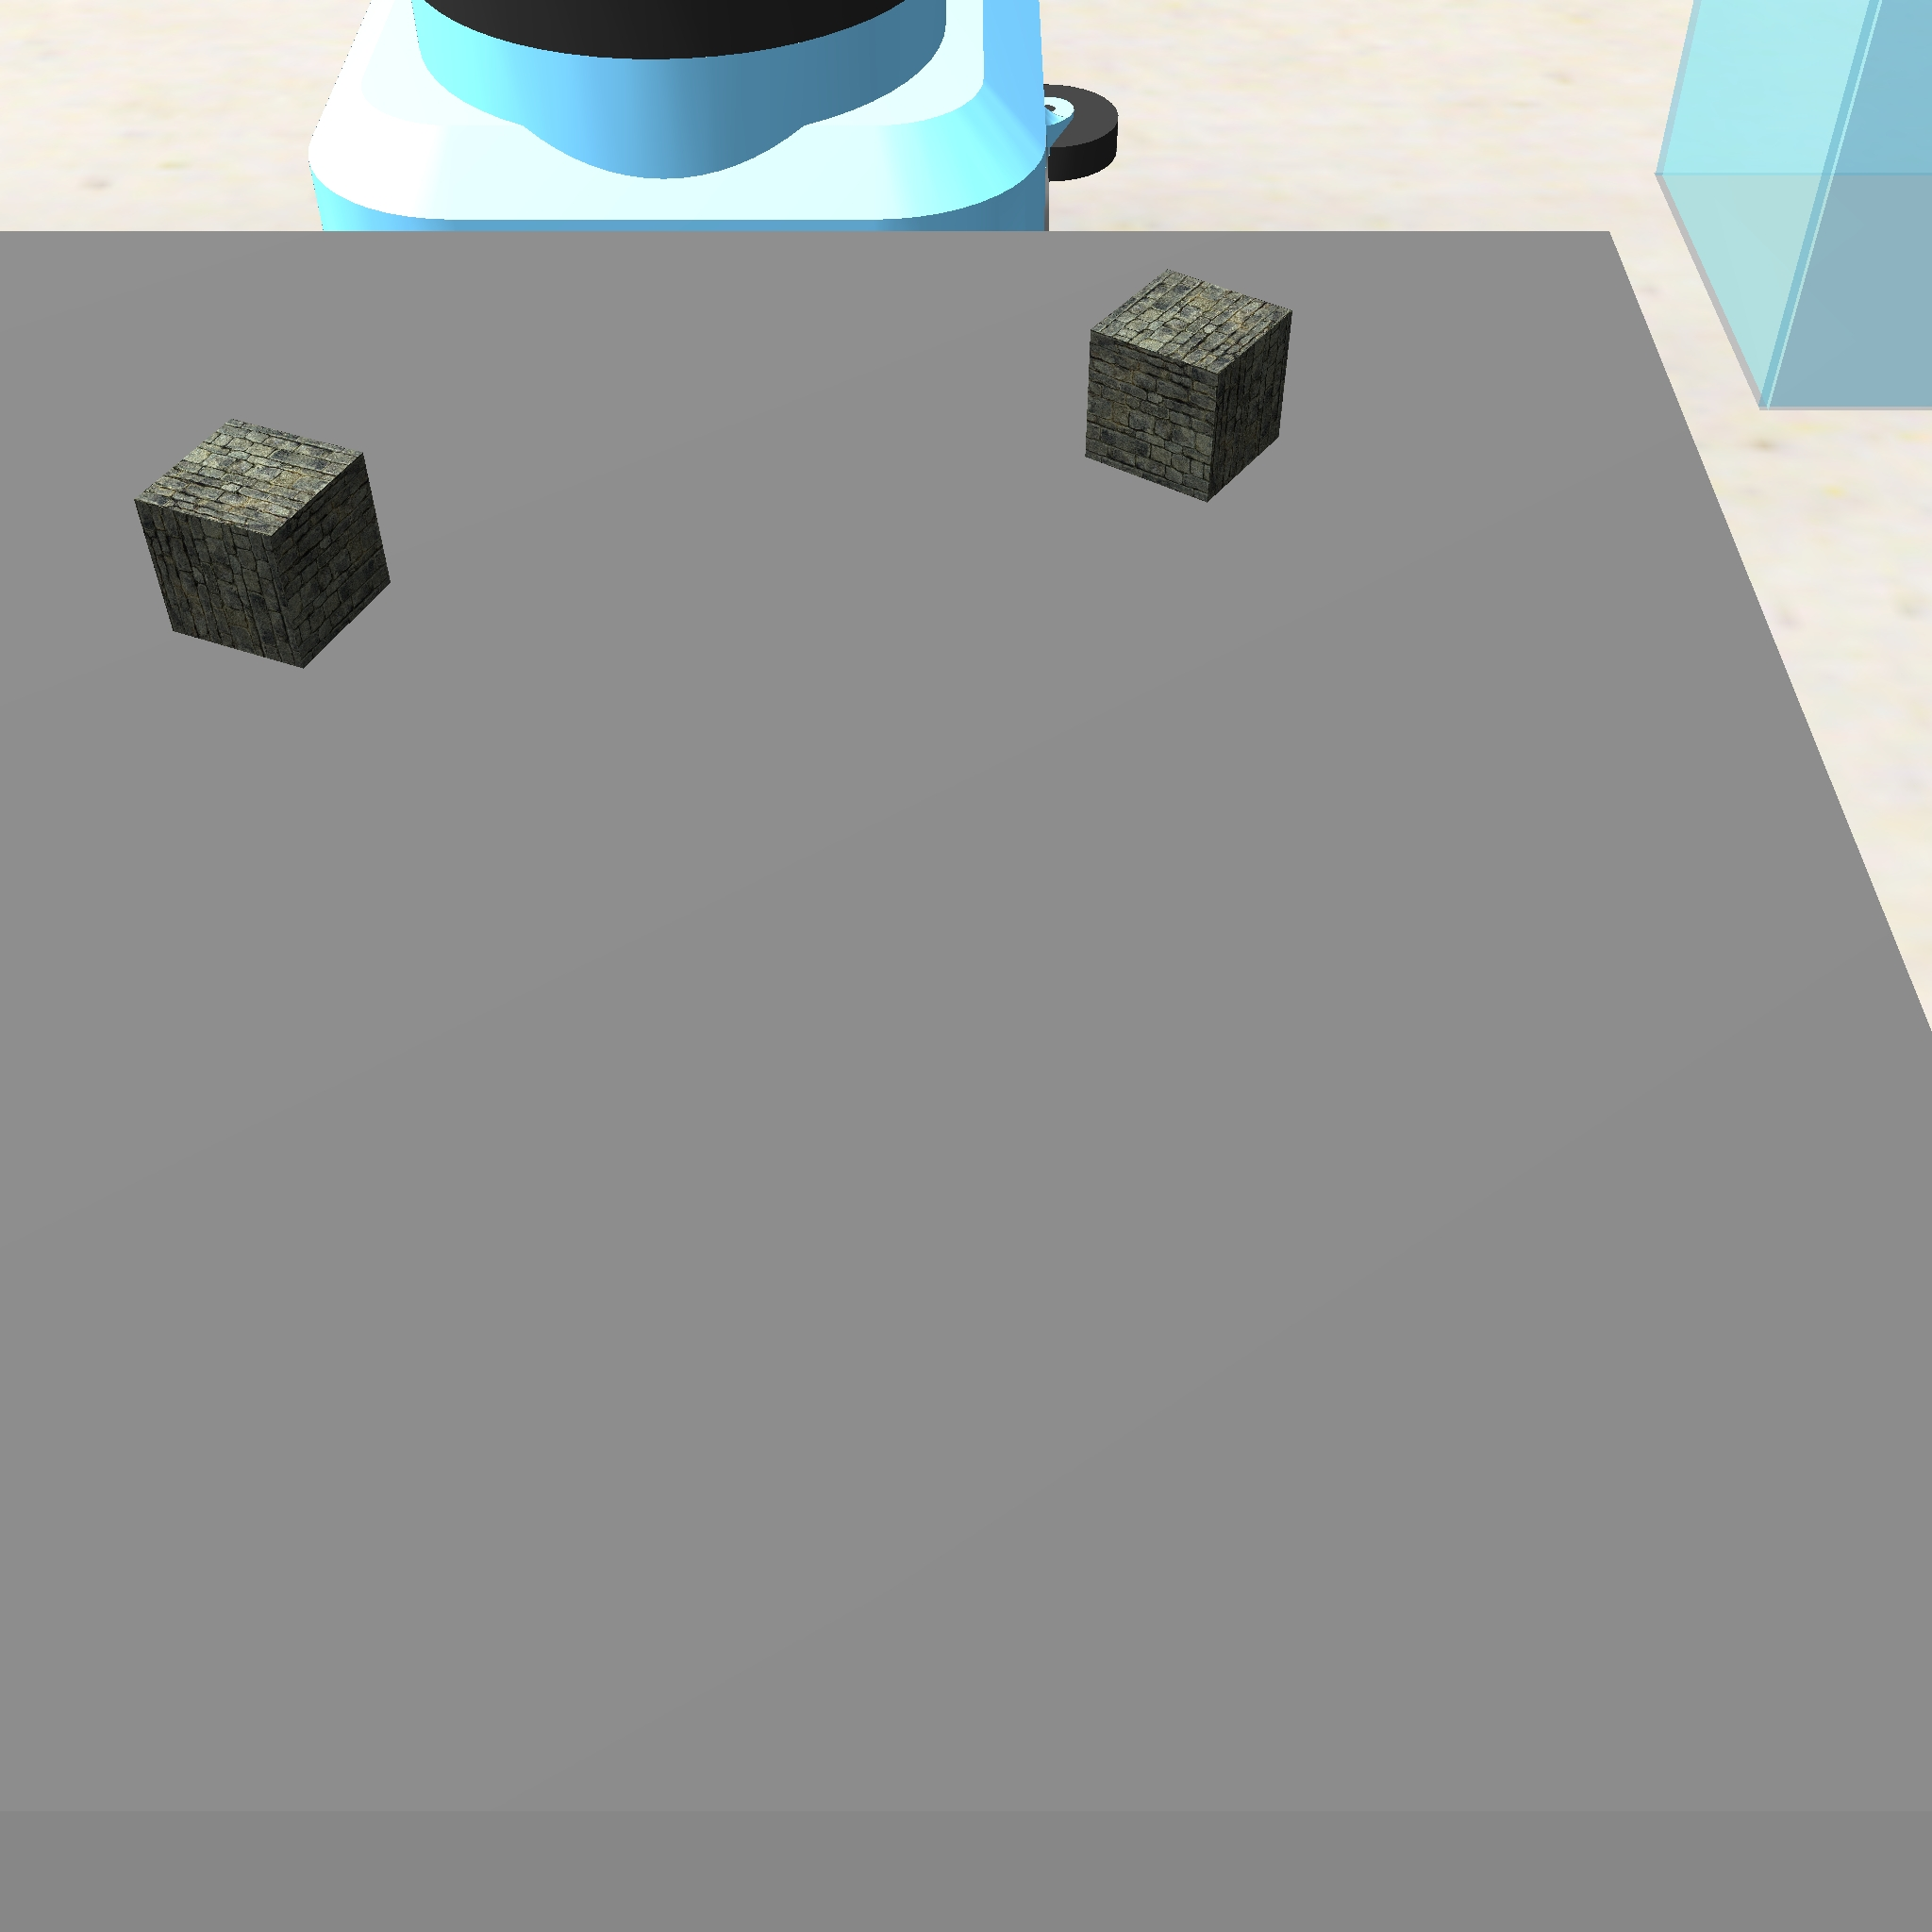cube: (126, 410, 400, 676), (1077, 262, 1300, 510)
